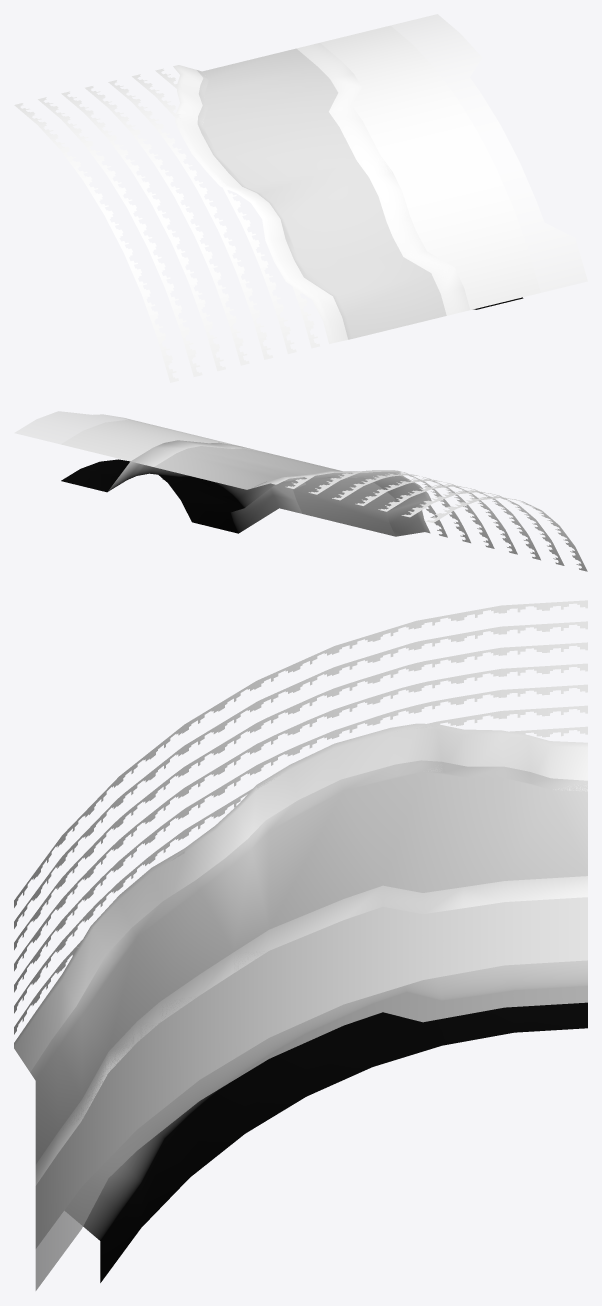
Rendered from grd_Ie_1.dae.
3 views of the same model, one above another, from view 1: azimuth 30°, elevation 25°; view 2: azimuth 150°, elevation 25°; view 3: azimuth 270°, elevation 25° (orthographic). The views are drawn at different scales.
Parts seen in each view (by area): view 1: grd_Ie_1; view 2: grd_Ie_1; view 3: grd_Ie_1.
Part boxes in pixels (box(x1,y1,x2,y2)): grd_Ie_1: box(14, 14, 587, 382); grd_Ie_1: box(14, 411, 587, 571); grd_Ie_1: box(14, 600, 587, 1290).
Size of the model in its own units: 576 by 244 by 368.
Materials: 6 (1 with a texture image).
